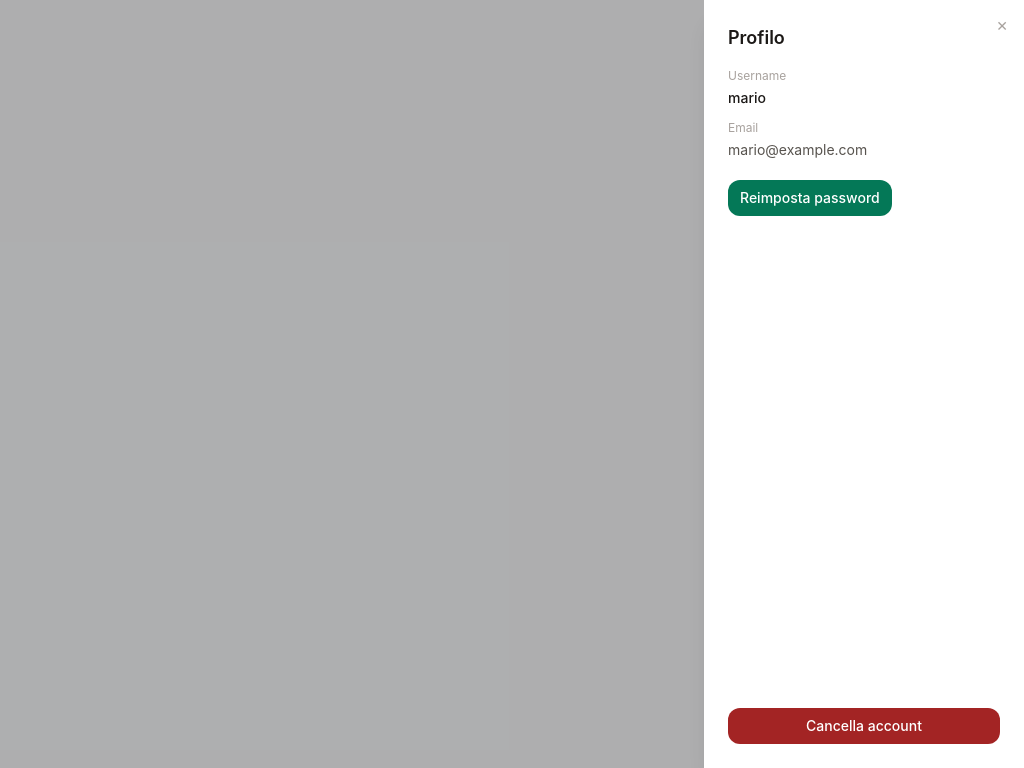
Profile – reset password dialog › apre il dialog di reset password al click sul bottone
The image size is (1024, 768).
Click the button "Reimposta password".
click(810, 198)  # box [728, 180, 892, 216]
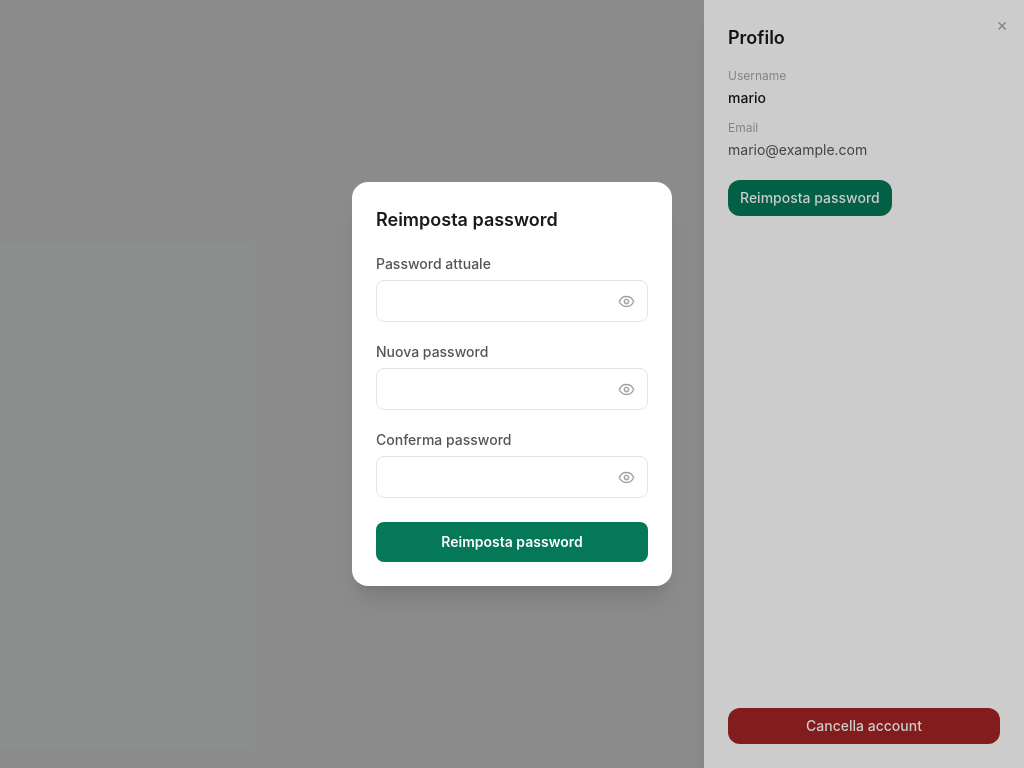
Expected: the heading "Reimposta password" is shown, [376, 209, 558, 230]
